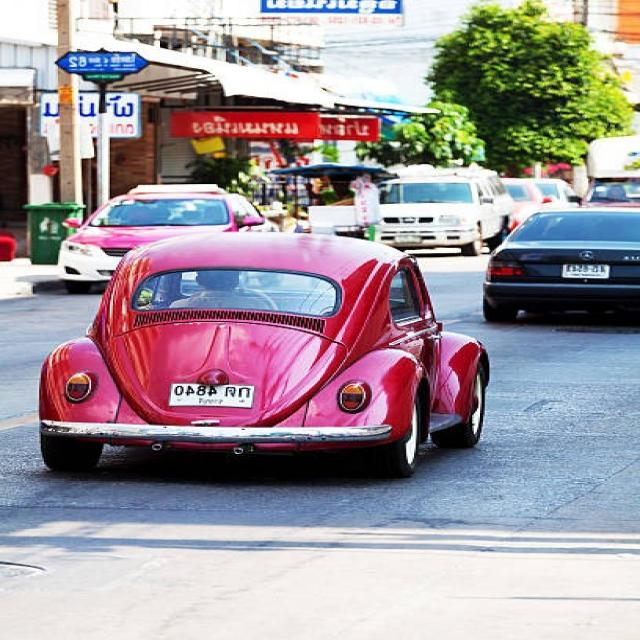car: (14, 232, 480, 477), (498, 215, 640, 322), (367, 177, 512, 256)
